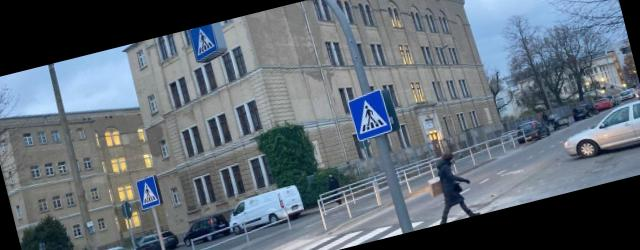crosswalk-sign: (346, 89, 394, 144), (190, 24, 226, 62), (135, 175, 163, 211)
